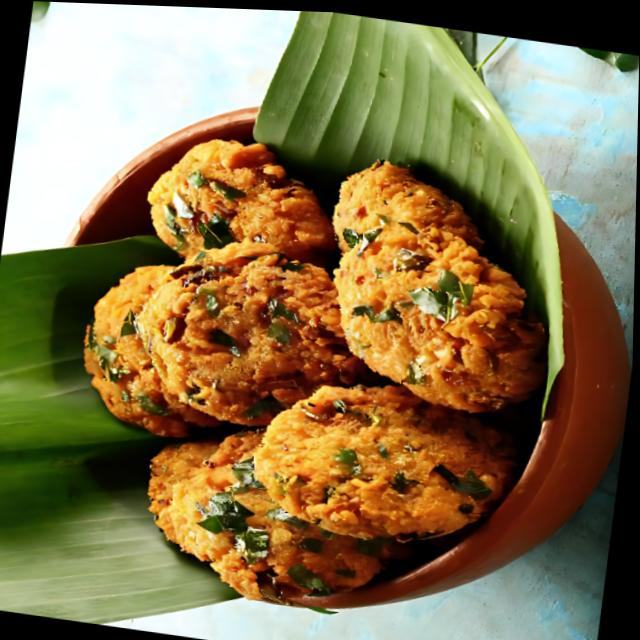VADA: (83, 134, 528, 599)
